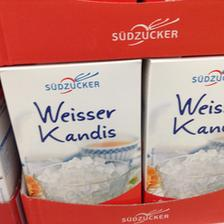Zucker: (0, 58, 142, 204), (141, 57, 223, 204)
